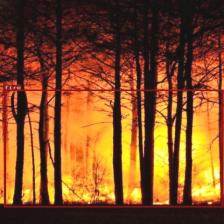fire: (3, 89, 223, 207)
